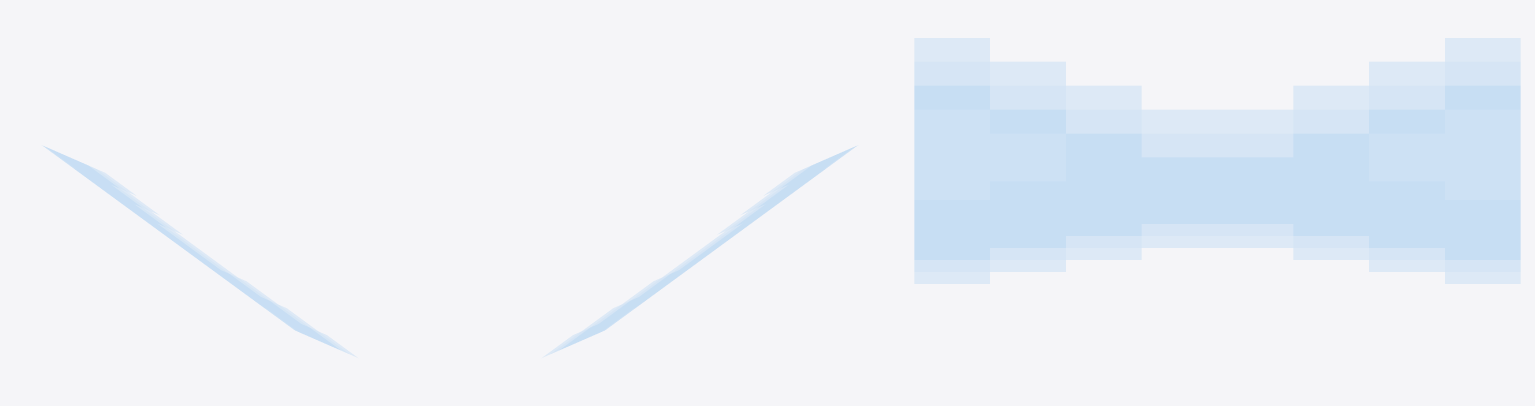
3 renders of one model, left to right at view 1: azimuth 30°, elevation 25°; view 2: azimuth 150°, elevation 25°; view 3: azimuth 270°, elevation 25°, orthographic. The views are drawn at different scales.
Size of the model in its own units: 0.3838 by 0.5088 by 1.
Materials: 1 (1 with a texture image).
